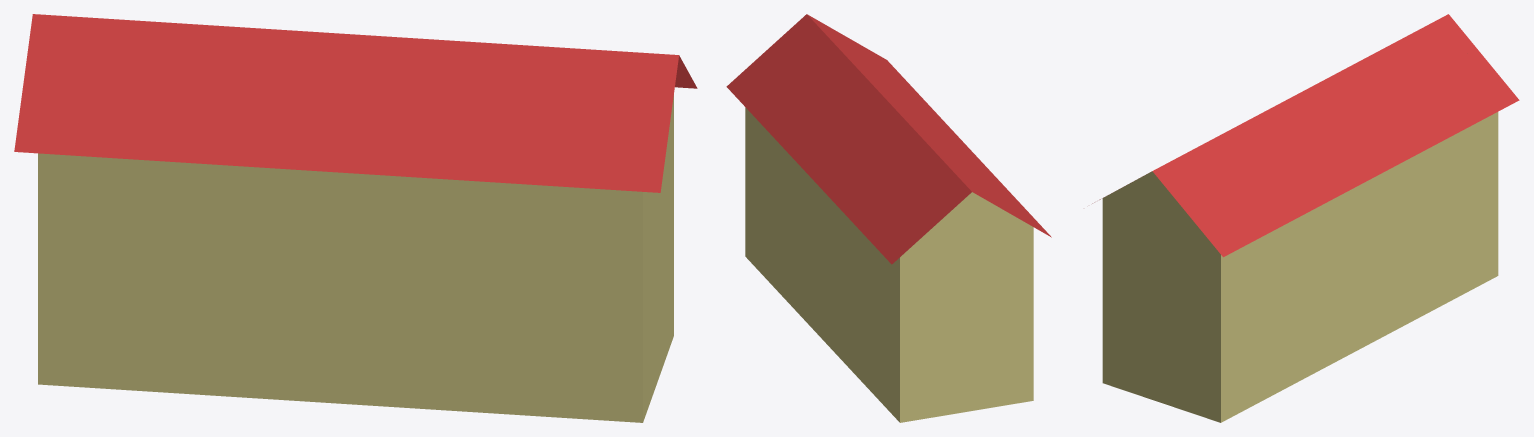
3 views of the same model, side by side, from view 1: azimuth 30°, elevation 25°; view 2: azimuth 150°, elevation 25°; view 3: azimuth 270°, elevation 25° (orthographic). The views are drawn at different scales.
Parts seen in each view (by area): view 1: group_5, group_3, group_4; view 2: group_5, group_3, group_4; view 3: group_5, group_3, group_4.
Part boxes in pixels (x1=…): group_5: x1=38, y1=95, x2=673, y2=422; group_3: x1=33, y1=14, x2=697, y2=192; group_4: x1=14, y1=14, x2=678, y2=192; group_5: x1=745, y1=107, x2=1033, y2=422; group_3: x1=735, y1=14, x2=1032, y2=257; group_4: x1=726, y1=16, x2=1051, y2=264; group_5: x1=1102, y1=112, x2=1498, y2=422; group_3: x1=1092, y1=19, x2=1497, y2=256; group_4: x1=1146, y1=14, x2=1519, y2=257.
Bounding box in the file's own units: 31.8 × 28.74 × 17.15.
